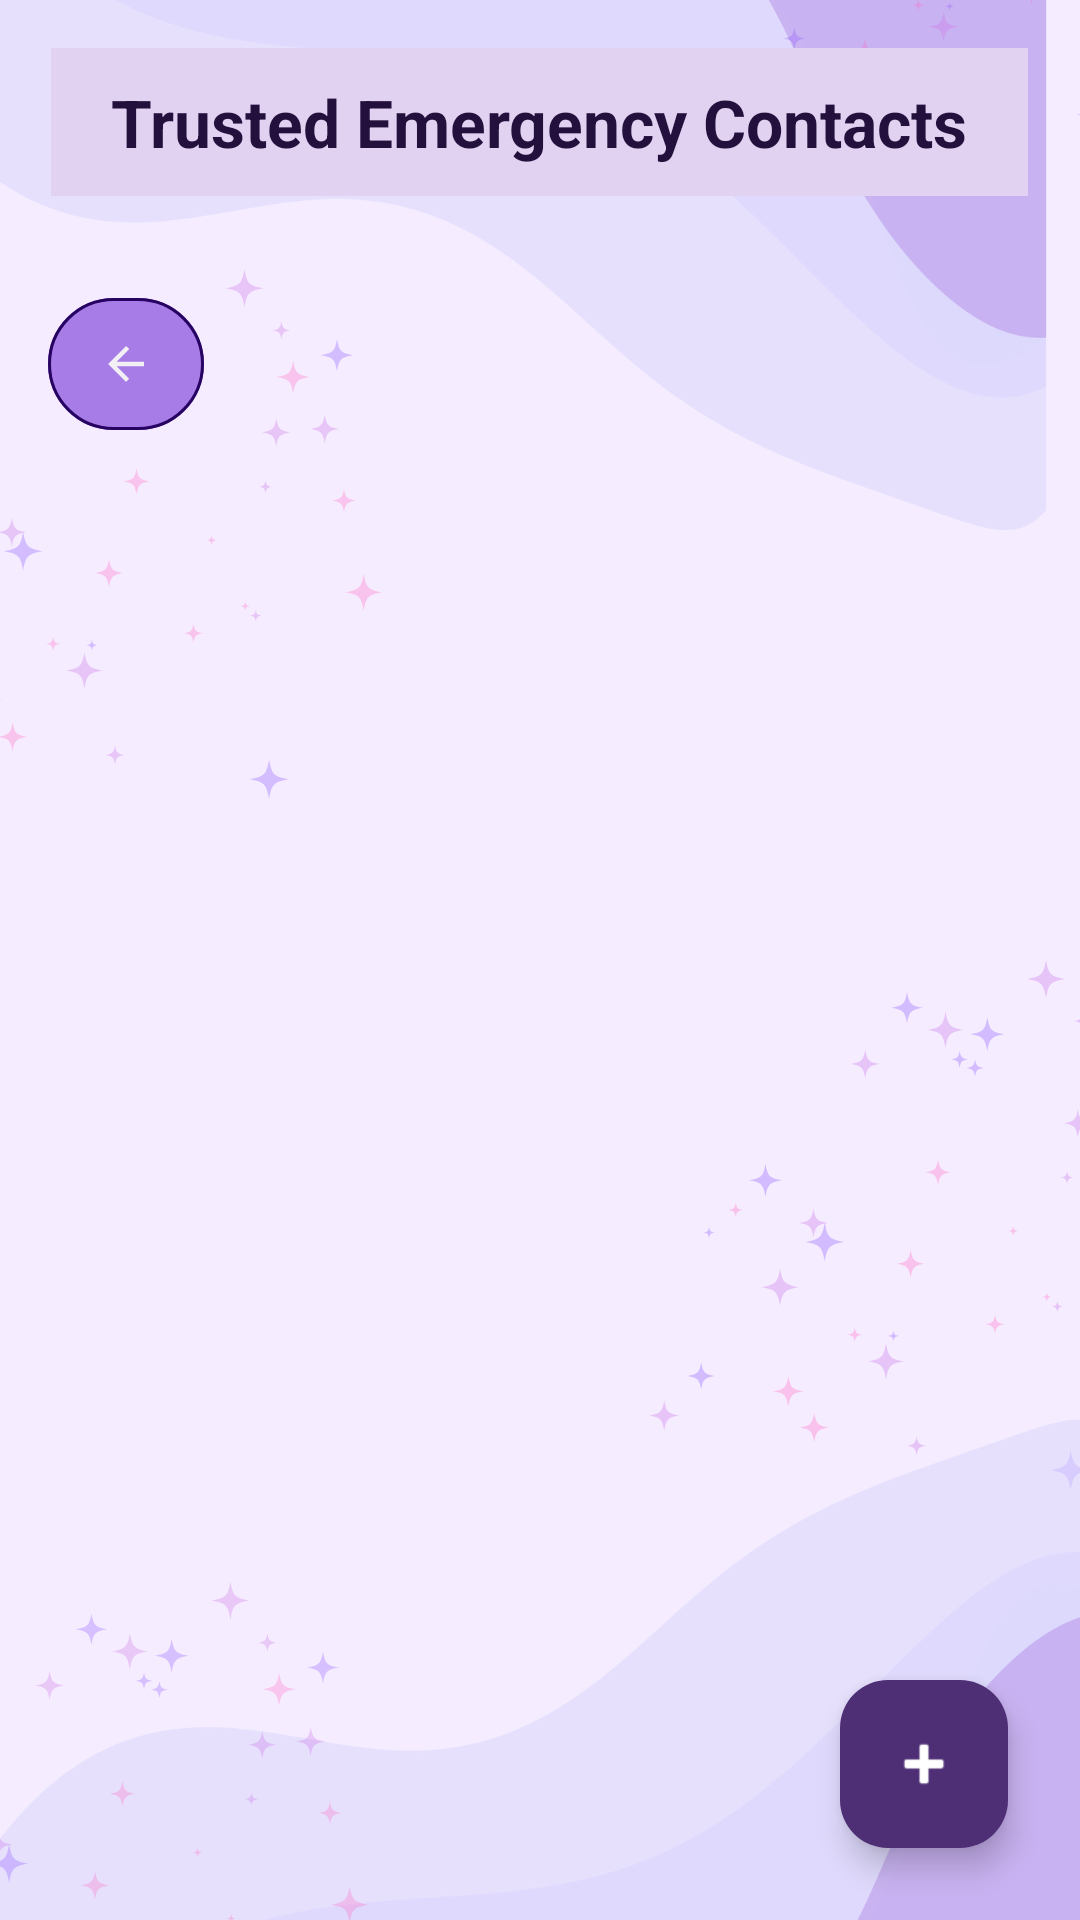

Where to tap for icons on this 1080 x 1920 app screen, as (x,y):
Add Contact: (924,1764)
arrow back: (126,364)
